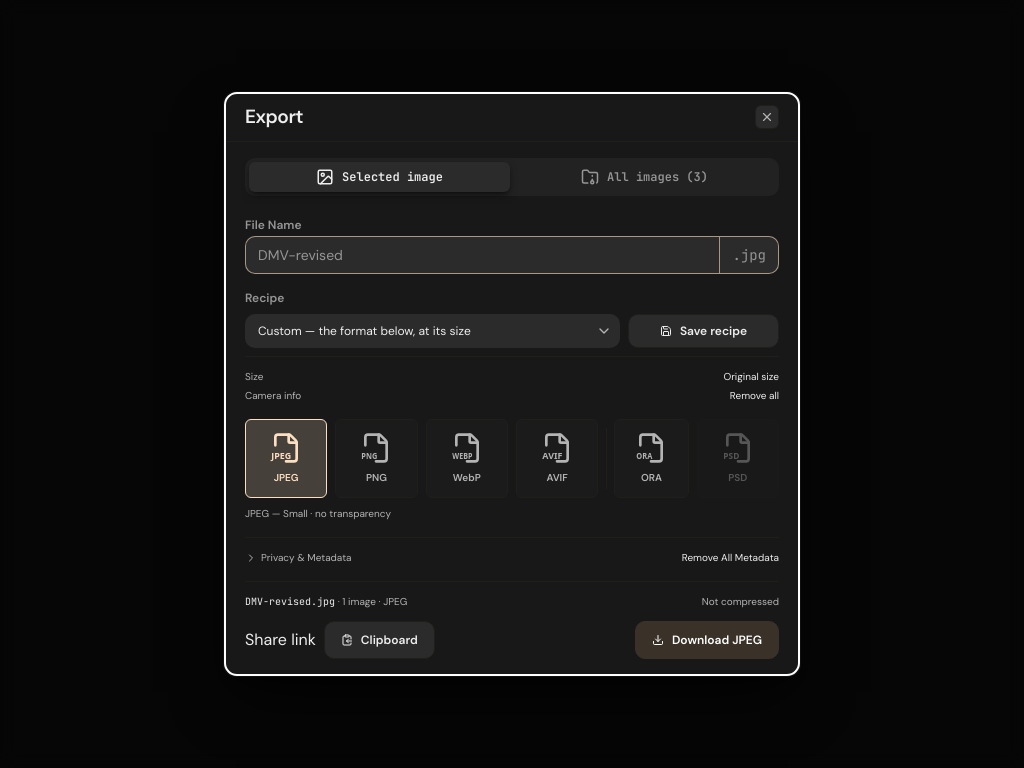
Test case: All images: recipe and Batch settings in, File Name and With Layers out
Click the radio button labelled "All images (3)". click: (644, 177)
box: [514,162,775,192]
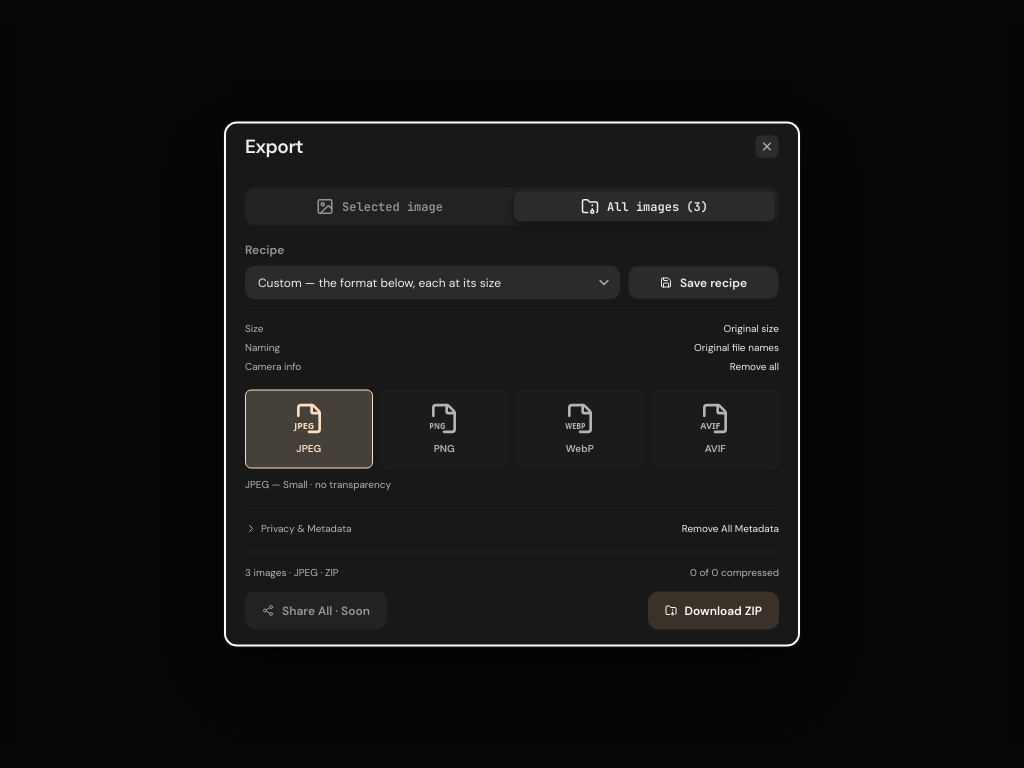
Expected: the dropdown labelled "Recipe" is shown, [245,266,620,300]
Expected: the text with id "export-summary" reads "3 images · JPEG · ZIP", [245,566,339,578]
Expected: the text with test id "export-compressed" reads "0 of 0 compressed", [690,566,779,578]
